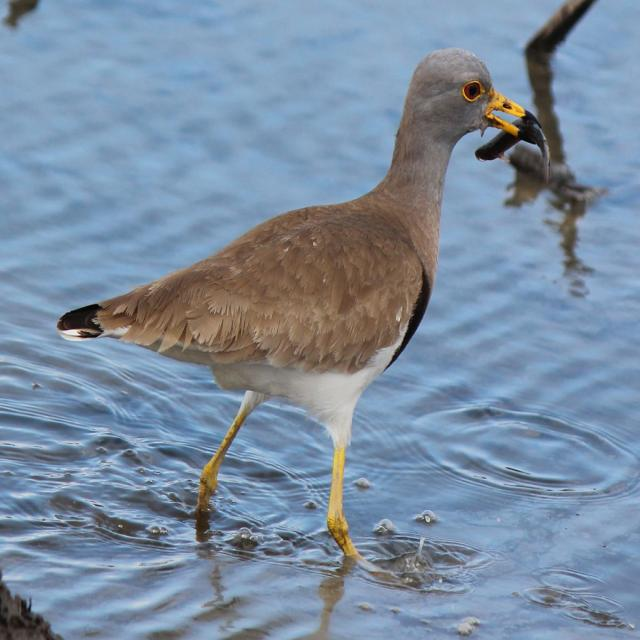bird: (54, 35, 537, 588)
